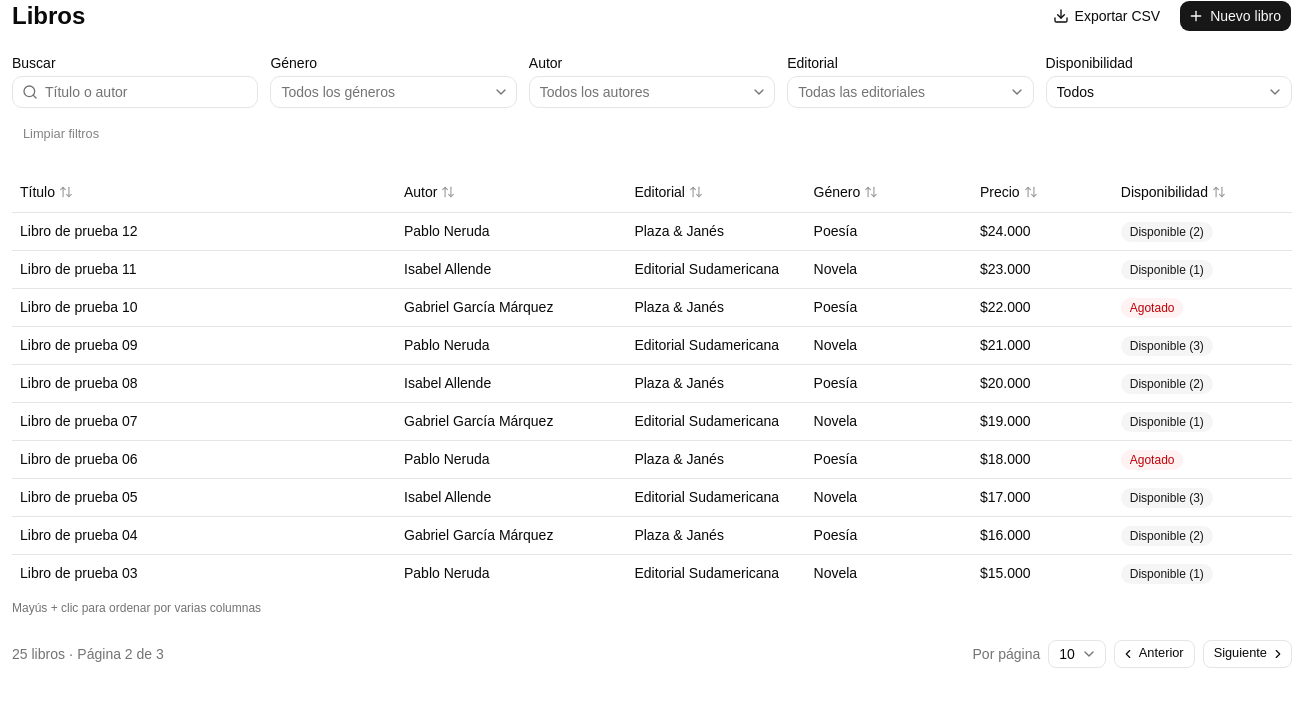
Test: BooksListPage › cambia el tamaño de página y vuelve a la página 1
Check: the text "25 libros · Página 2 de 3" is shown, box [12, 644, 164, 664]
What coordinates should you click on to do the following:
click the dropdown labelled "10 ▼"
I would click on:
 (1077, 654)
Its box is [1048, 640, 1106, 668].
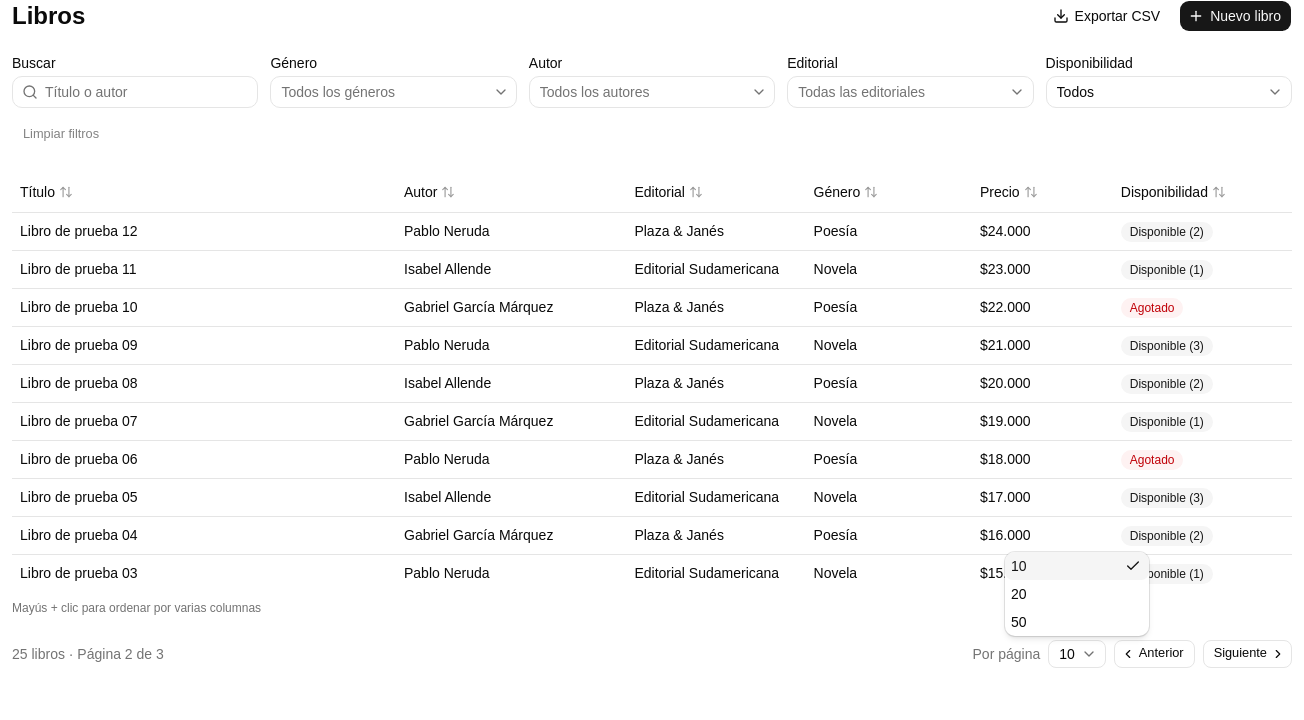
What coordinates should you click on to do the following:
click the option "20"
I would click on:
 (1019, 594)
Its box is [1011, 586, 1027, 602].
(page scrolled)
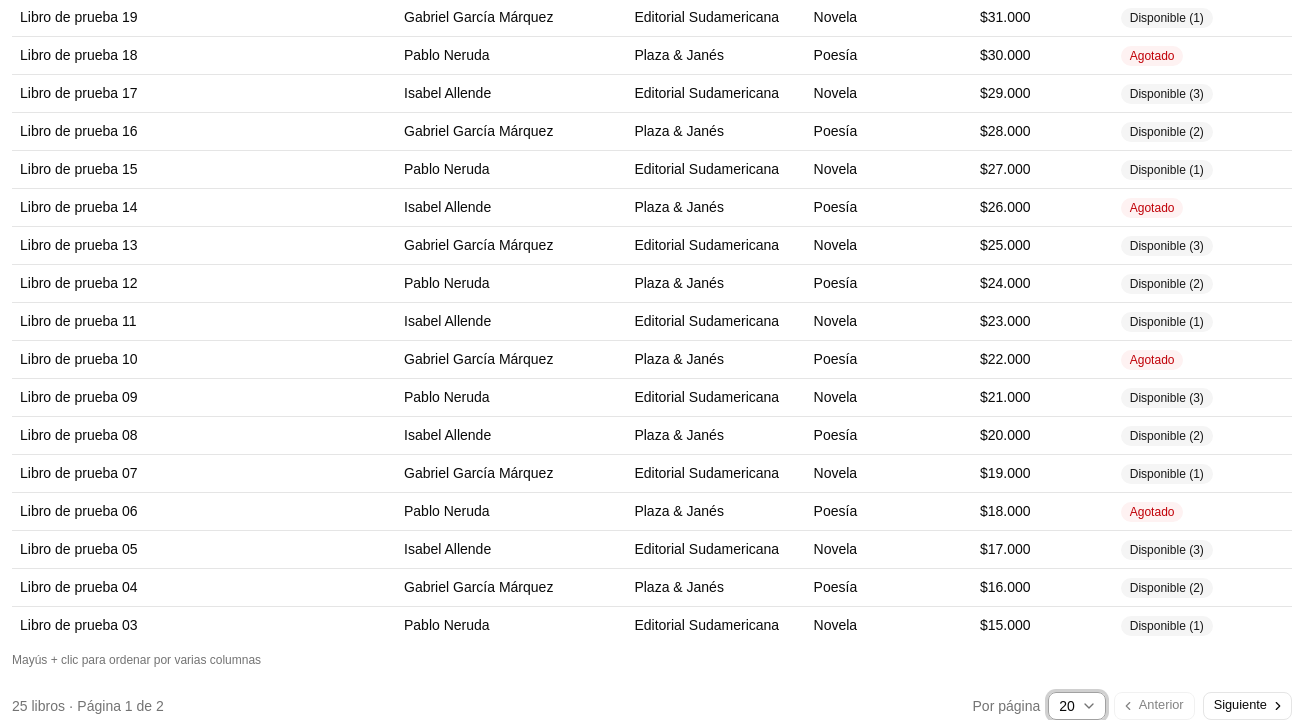
Check: the text "25 libros · Página 1 de 2" is shown, box [12, 696, 164, 716]
